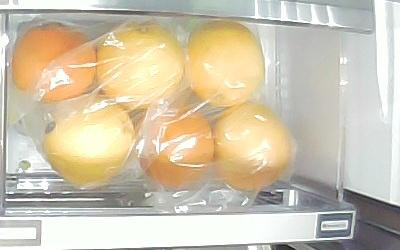grapefruit_vinyl: (43, 99, 136, 188), (98, 20, 186, 109), (10, 22, 97, 103), (213, 103, 291, 190), (134, 106, 215, 189), (187, 19, 263, 107)
